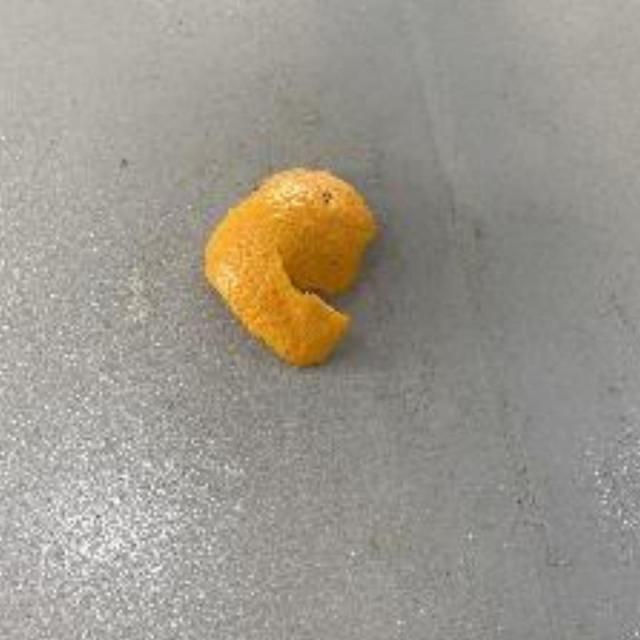orange peel: (202, 162, 370, 371)
